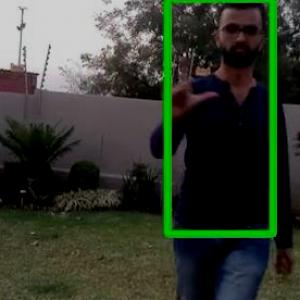land_hand: (152, 49, 220, 117)
